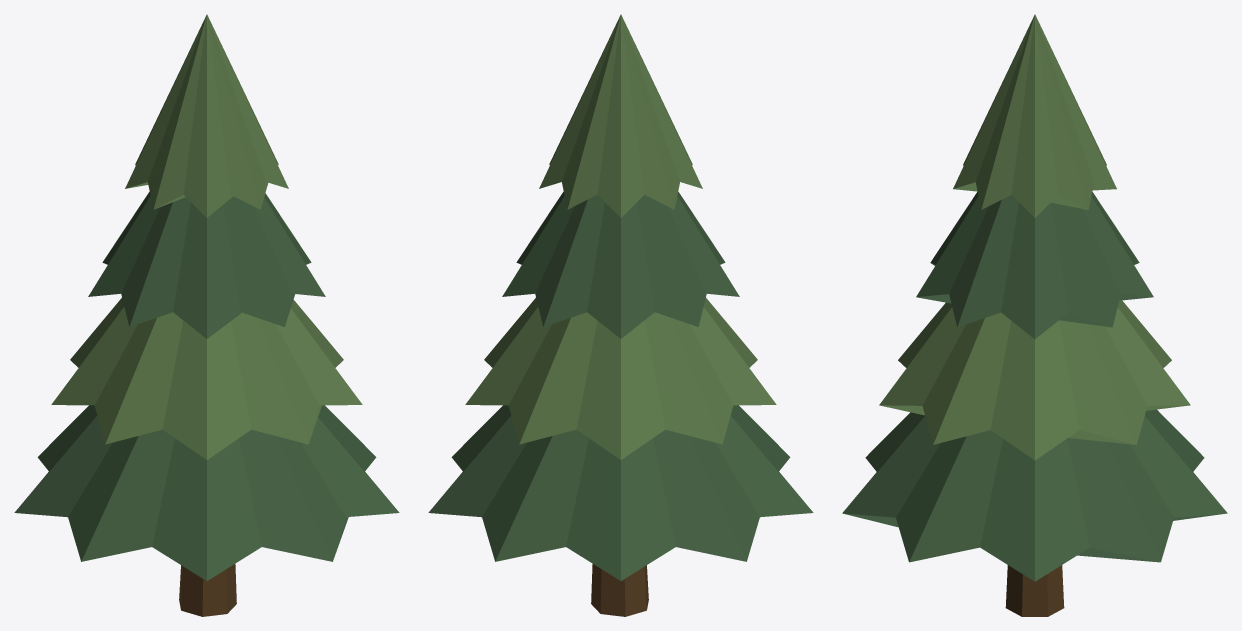
File: SM_Fir_02.fbx
The picture shows the model from 3 angles, left to right: view 1: azimuth 30°, elevation 25°; view 2: azimuth 150°, elevation 25°; view 3: azimuth 270°, elevation 25°; orthographic projection.
Visible parts, largest first — view 1: SM_Fir_02; view 2: SM_Fir_02; view 3: SM_Fir_02.
Boxes of the visible parts, x1,y1,x2,y2 form: SM_Fir_02: (14, 14, 399, 616); SM_Fir_02: (428, 14, 813, 616); SM_Fir_02: (842, 14, 1227, 616).
Bounding box in the file's own units: 4.05 × 4.12 × 6.96.
